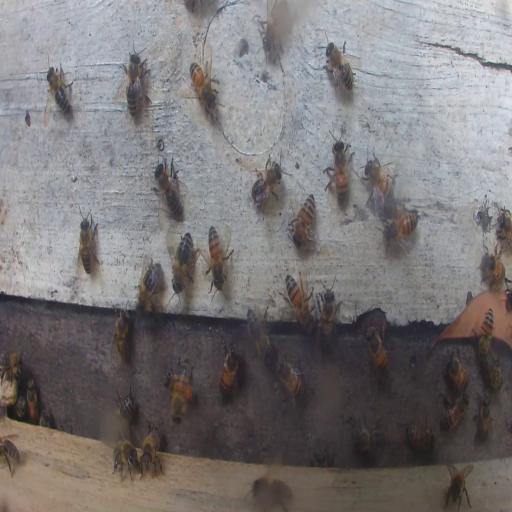bee: (324, 124, 352, 207), (120, 47, 148, 120), (206, 222, 235, 290), (284, 270, 316, 330), (362, 154, 396, 210), (322, 40, 356, 96), (154, 155, 183, 220), (250, 157, 284, 212), (274, 355, 305, 412), (383, 202, 418, 249), (261, 0, 290, 55), (252, 475, 296, 511), (246, 308, 274, 364), (318, 278, 340, 349), (189, 56, 218, 109), (170, 358, 192, 427), (288, 194, 316, 246), (443, 462, 473, 510), (349, 417, 387, 454), (170, 230, 194, 287), (78, 206, 98, 274), (46, 63, 72, 115), (112, 438, 142, 482), (218, 341, 241, 396), (365, 323, 389, 374), (138, 260, 162, 311), (439, 393, 468, 432), (112, 306, 132, 362), (473, 392, 492, 444), (142, 425, 162, 474), (444, 352, 469, 391), (480, 247, 504, 286), (404, 424, 436, 452), (0, 434, 21, 475), (480, 306, 494, 360), (2, 353, 20, 390), (496, 208, 512, 248), (25, 377, 39, 422), (117, 390, 135, 422), (488, 355, 502, 391), (504, 278, 512, 311), (314, 448, 328, 466), (15, 396, 26, 418), (40, 407, 51, 426)
